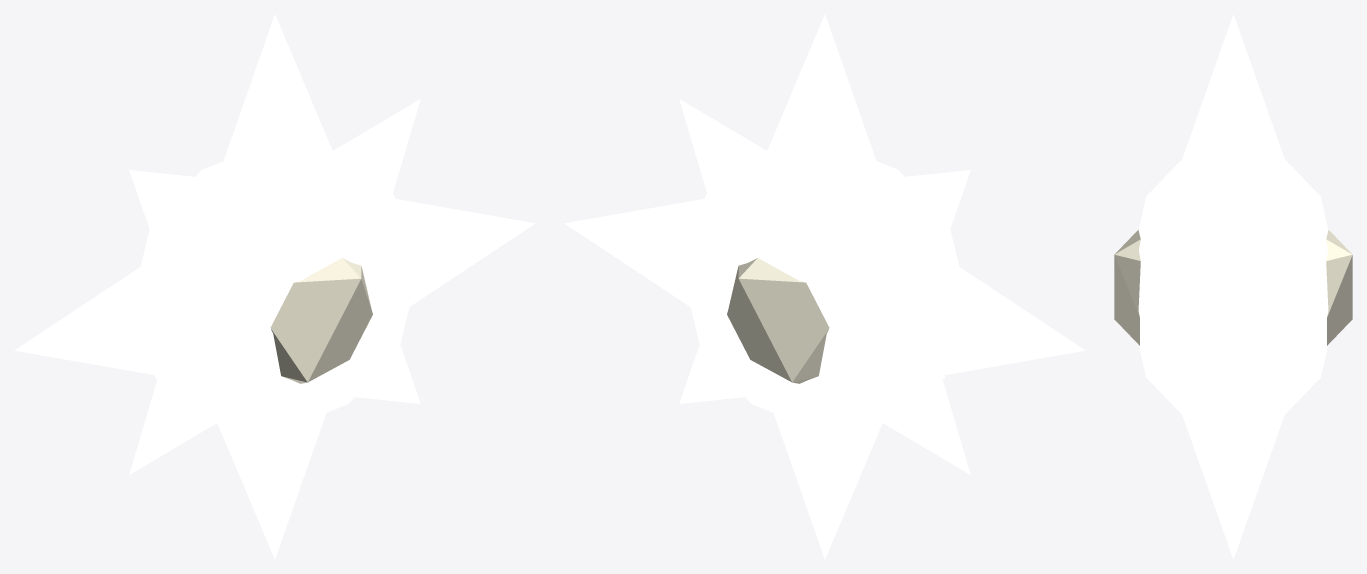
File: Emblem_Light.fbx
3 renders of one model, left to right at view 1: azimuth 30°, elevation 25°; view 2: azimuth 150°, elevation 25°; view 3: azimuth 270°, elevation 25°, orthographic.
Visible parts, largest first — view 1: Emblem_Light; view 2: Emblem_Light; view 3: Emblem_Light.
Boxes of the visible parts, x1,y1,x2,y2 form: Emblem_Light: (14, 14, 535, 559); Emblem_Light: (564, 14, 1085, 559); Emblem_Light: (1114, 14, 1352, 559).
Bounding box in the file's own units: 0.43 × 0.43 × 0.1701.
